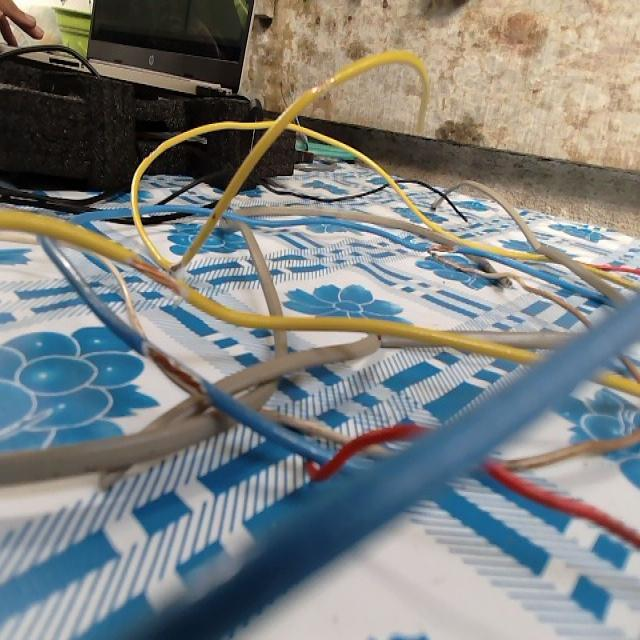-: (135, 335, 210, 408), (121, 253, 186, 299), (426, 240, 464, 259)
